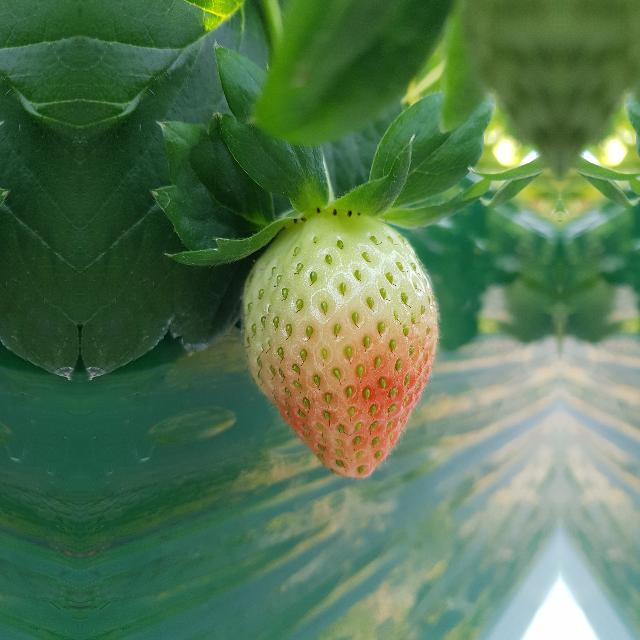Health_50: (240, 210, 440, 480)
